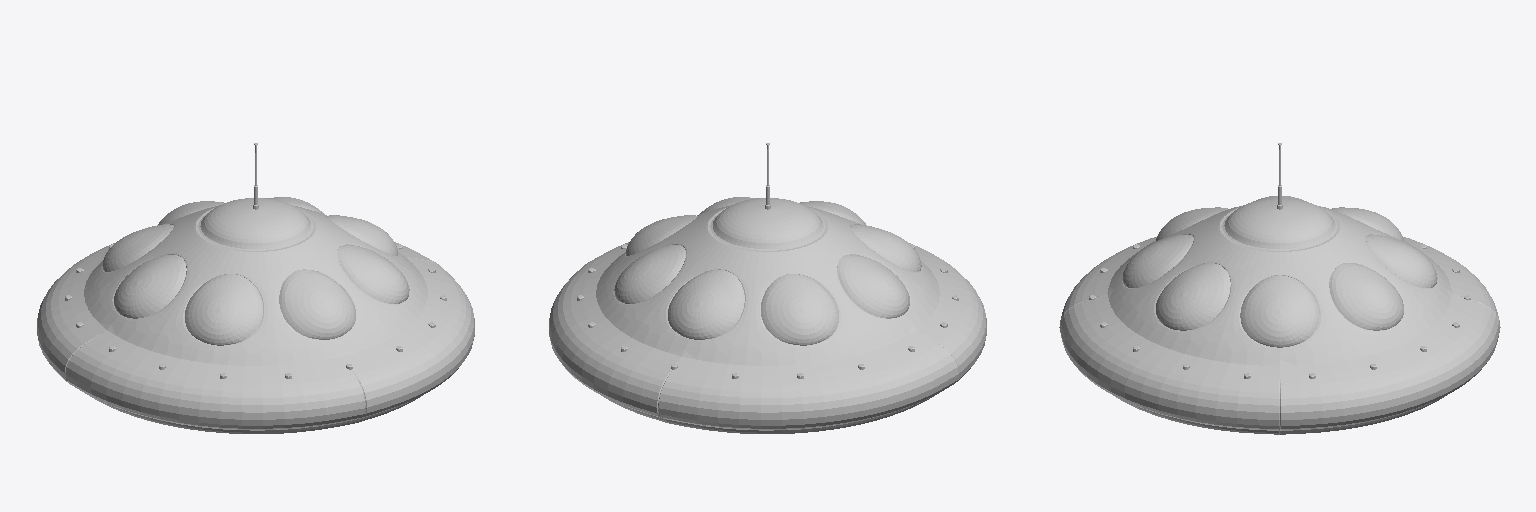
File: UFO.obj
The picture shows the model from 3 angles: view 1: azimuth 30°, elevation 25°; view 2: azimuth 150°, elevation 25°; view 3: azimuth 270°, elevation 25°; orthographic projection.
Size of the model in its own units: 4.14 by 2.33 by 4.14.